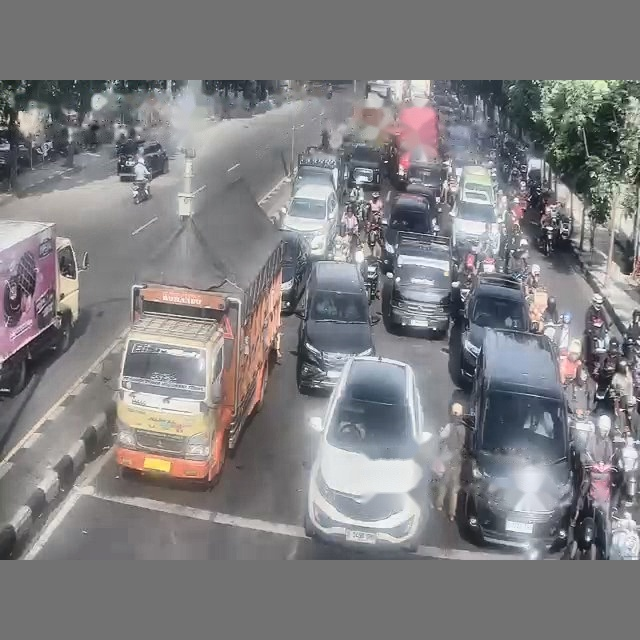Mobil: (304, 357, 433, 550), (461, 330, 574, 550), (296, 261, 379, 392), (460, 273, 530, 384), (382, 233, 450, 338), (281, 184, 340, 258), (382, 192, 436, 272), (449, 188, 499, 253), (291, 148, 347, 198), (281, 230, 310, 312), (404, 162, 446, 212), (117, 141, 168, 180), (395, 146, 443, 187), (347, 143, 384, 189), (367, 80, 392, 99)
Motor: (567, 460, 616, 559), (614, 434, 639, 506), (608, 512, 639, 560), (132, 181, 150, 204)
Truk: (115, 186, 282, 485), (0, 220, 88, 395)
